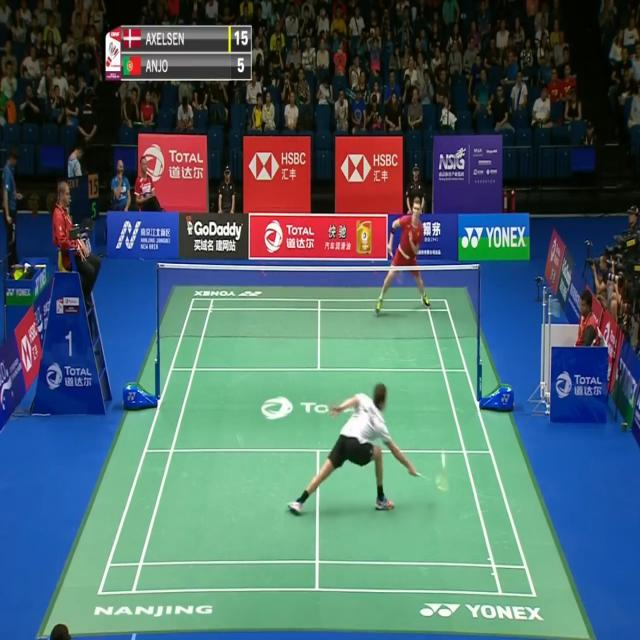Player1: (284, 380, 422, 524)
Player2: (372, 188, 436, 321)
